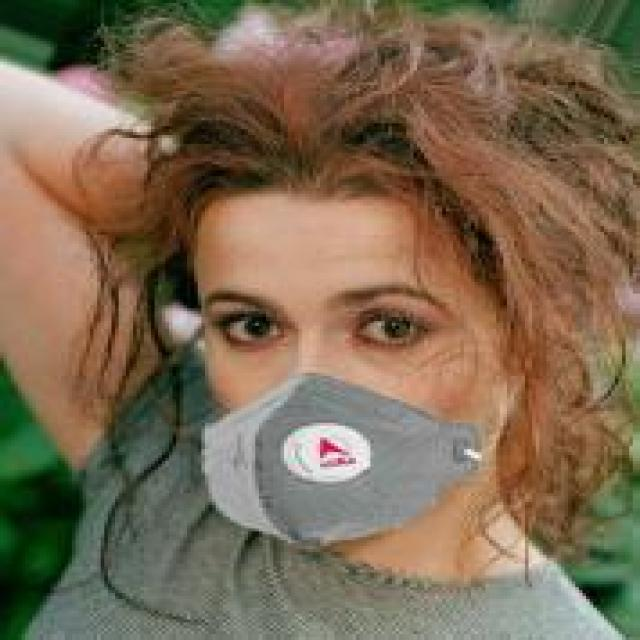mask: (133, 124, 597, 578)
